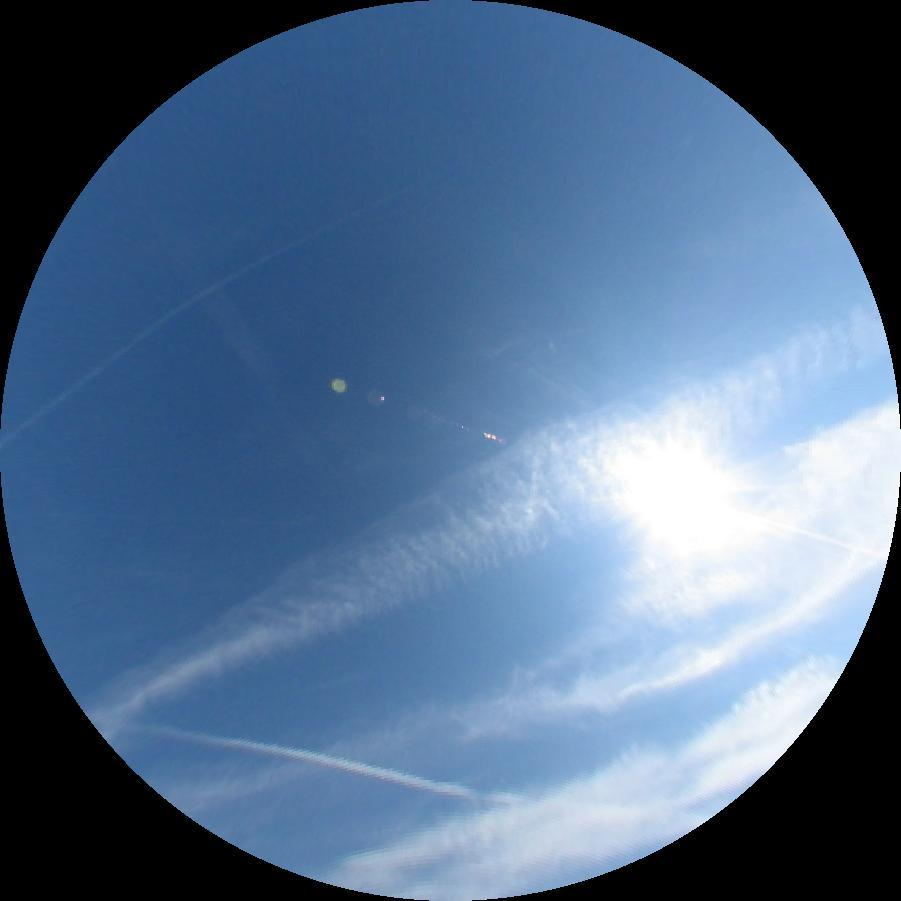contrail old: (124, 714, 544, 813)
contrail veryold: (59, 267, 901, 758)
parasite: (724, 507, 889, 560)
sun: (626, 447, 741, 549)
